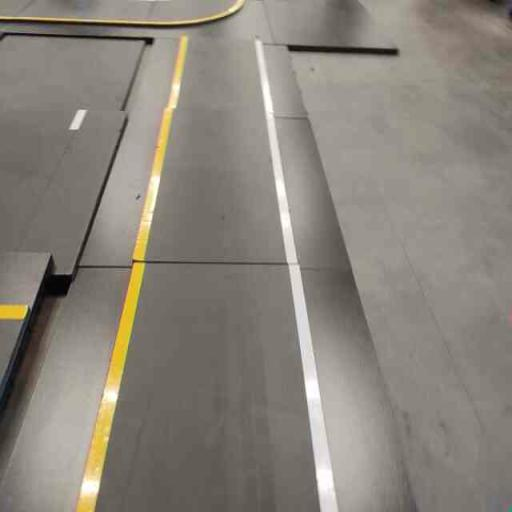straight: (69, 264, 341, 511)
